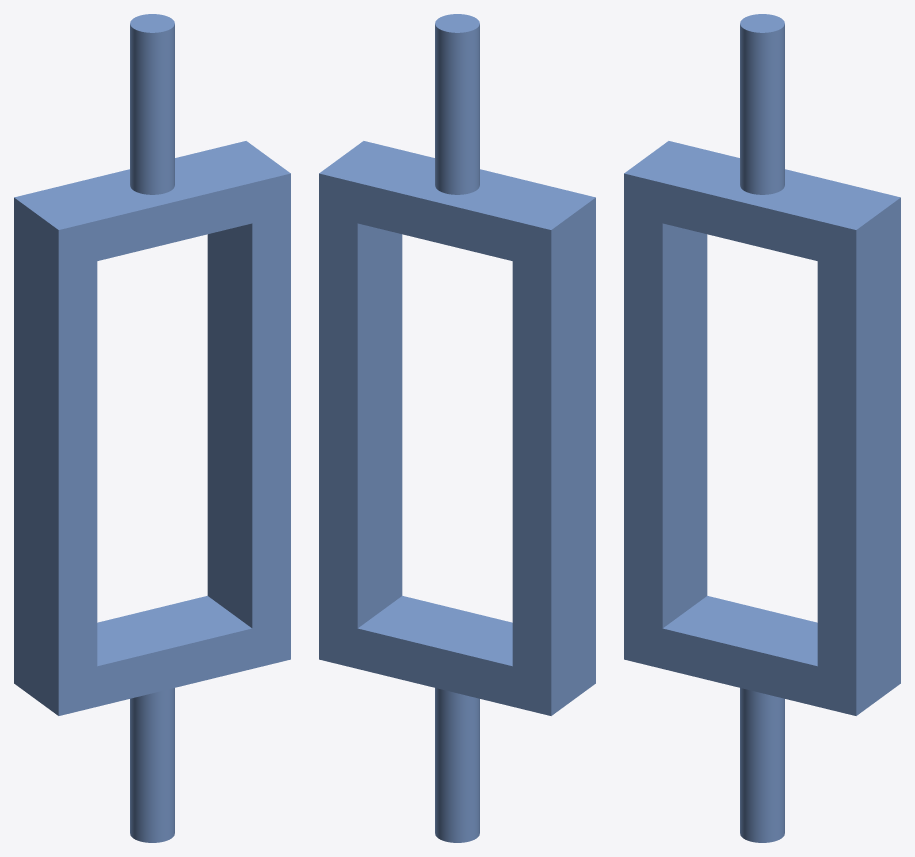
The model's file is marco_sim.gltf.
3 views of the same model, side by side, from view 1: azimuth 30°, elevation 25°; view 2: azimuth 150°, elevation 25°; view 3: azimuth 330°, elevation 25° (orthographic).
Visible parts, largest first — view 1: Part 2; view 2: Part 2; view 3: Part 2.
Boxes of the visible parts, left/top/right/bottom form: Part 2: left=14, top=14, right=290, bottom=842; Part 2: left=319, top=14, right=595, bottom=842; Part 2: left=624, top=14, right=900, bottom=842.
Bounding box in the file's own units: 0.03 × 0.1 × 0.01.
